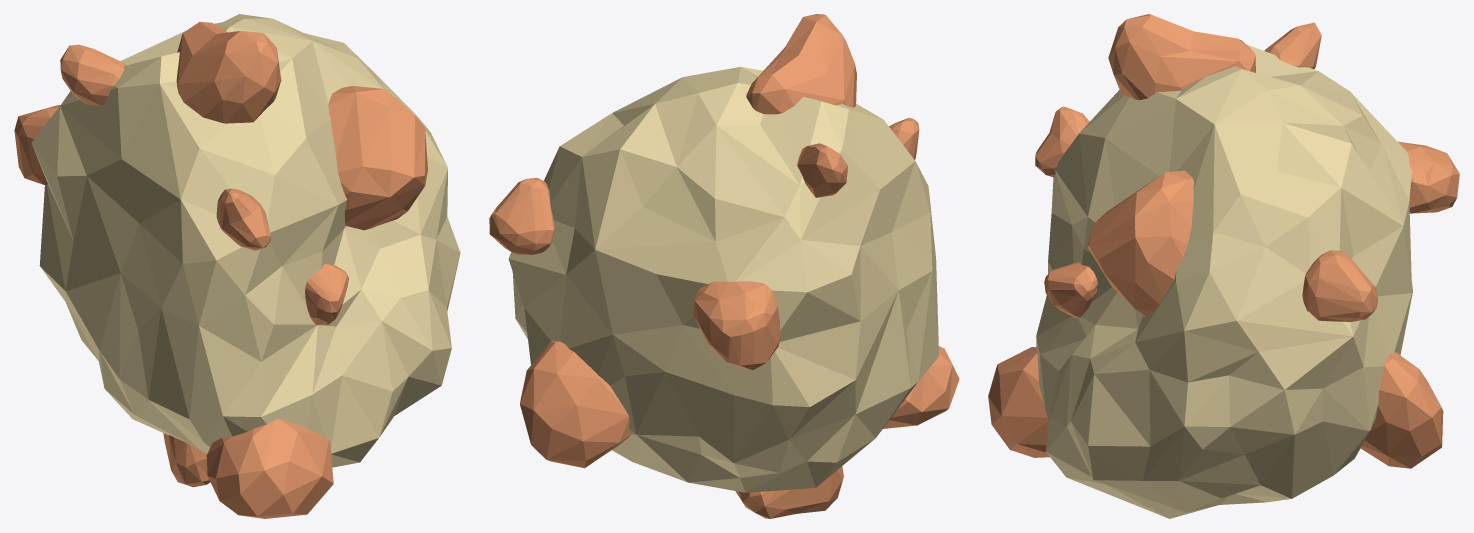
File: StoneOre (47).fbx
The picture shows the model from 3 angles, left to right: view 1: azimuth 30°, elevation 25°; view 2: azimuth 150°, elevation 25°; view 3: azimuth 270°, elevation 25°; orthographic projection.
Parts seen in each view (by area): view 1: Asteroid334; view 2: Asteroid334; view 3: Asteroid334.
Part boxes in pixels (x1=…): Asteroid334: x1=14, y1=14, x2=460, y2=518; Asteroid334: x1=489, y1=14, x2=959, y2=518; Asteroid334: x1=988, y1=14, x2=1459, y2=518.
Bounding box in the file's own units: 442 × 563 × 512.
